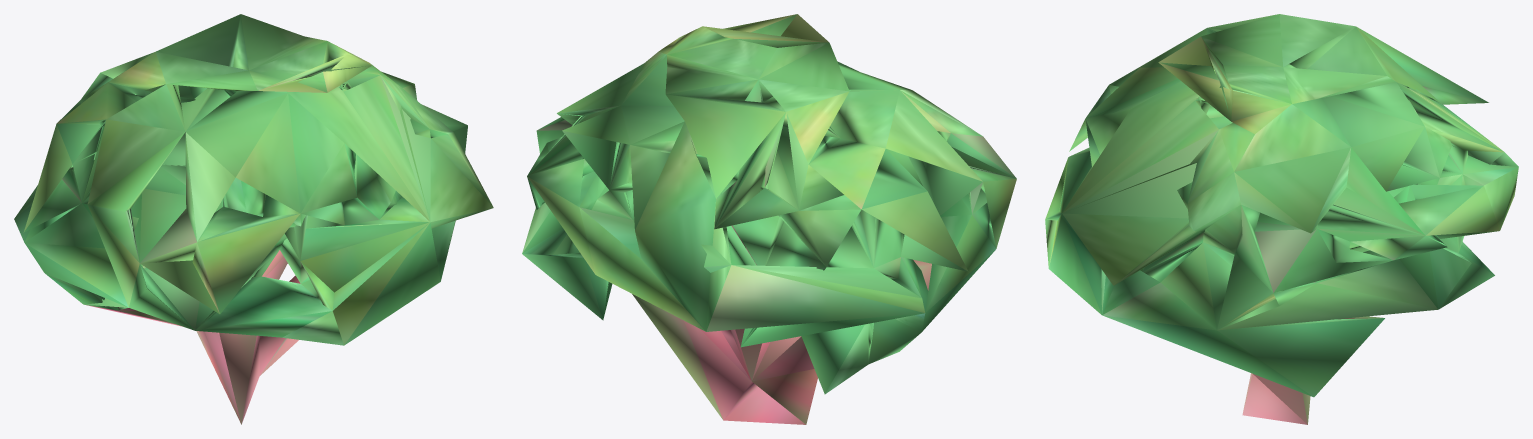
Rendered from tree-round.glb.
3 views of the same model, side by side, from view 1: azimuth 30°, elevation 25°; view 2: azimuth 150°, elevation 25°; view 3: azimuth 270°, elevation 25° (orthographic). The views are drawn at different scales.
Parts seen in each view (by area): view 1: plant_tree-round; view 2: plant_tree-round; view 3: plant_tree-round.
Boxes of the visible parts, bbox=[...] form: plant_tree-round: bbox=[14, 14, 493, 424]; plant_tree-round: bbox=[522, 14, 1016, 424]; plant_tree-round: bbox=[1045, 14, 1518, 424].
Size of the model in its own units: 1.28 by 1 by 1.14.
1 material, 1 textured.
